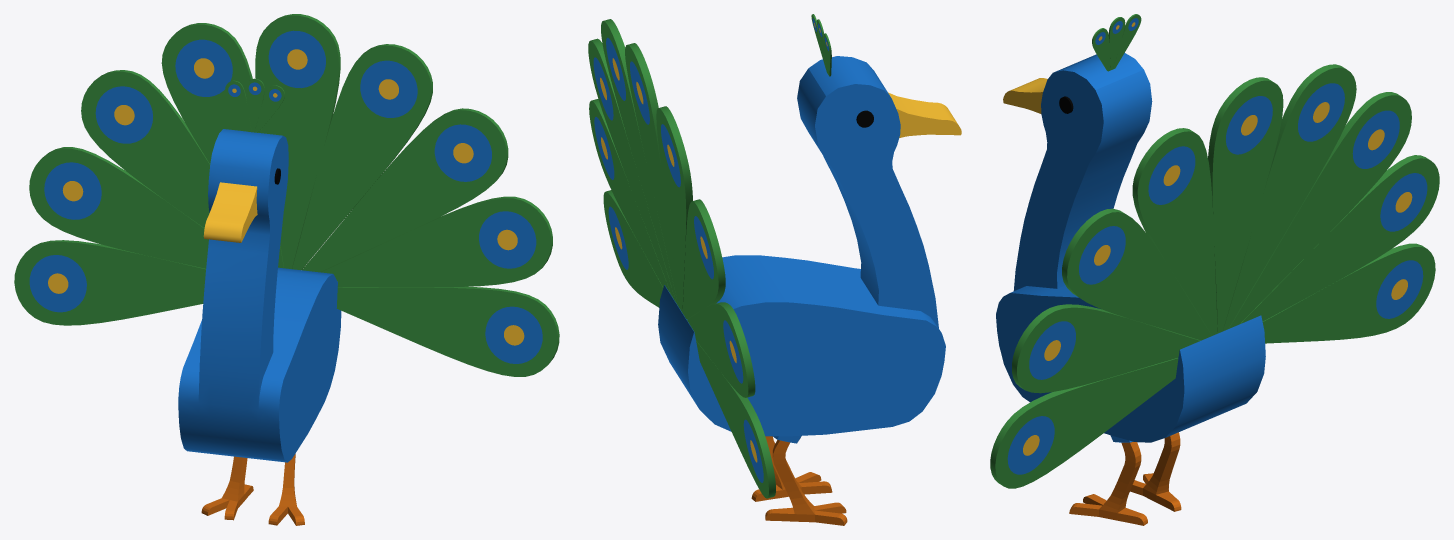
File: peacock.glb
The picture shows the model from 3 angles, left to right: view 1: azimuth 30°, elevation 25°; view 2: azimuth 150°, elevation 25°; view 3: azimuth 270°, elevation 25°; orthographic projection. The views are drawn at different scales.
Visible parts, largest first — view 1: Cube.035; view 2: Cube.035; view 3: Cube.035.
Boxes of the visible parts, left/top/right/bottom form: Cube.035: left=14, top=14, right=559, bottom=525; Cube.035: left=588, top=14, right=961, bottom=525; Cube.035: left=990, top=14, right=1439, bottom=525.
Size of the model in its own units: 1.71 by 2.02 by 1.71.
1 material, 1 textured.
